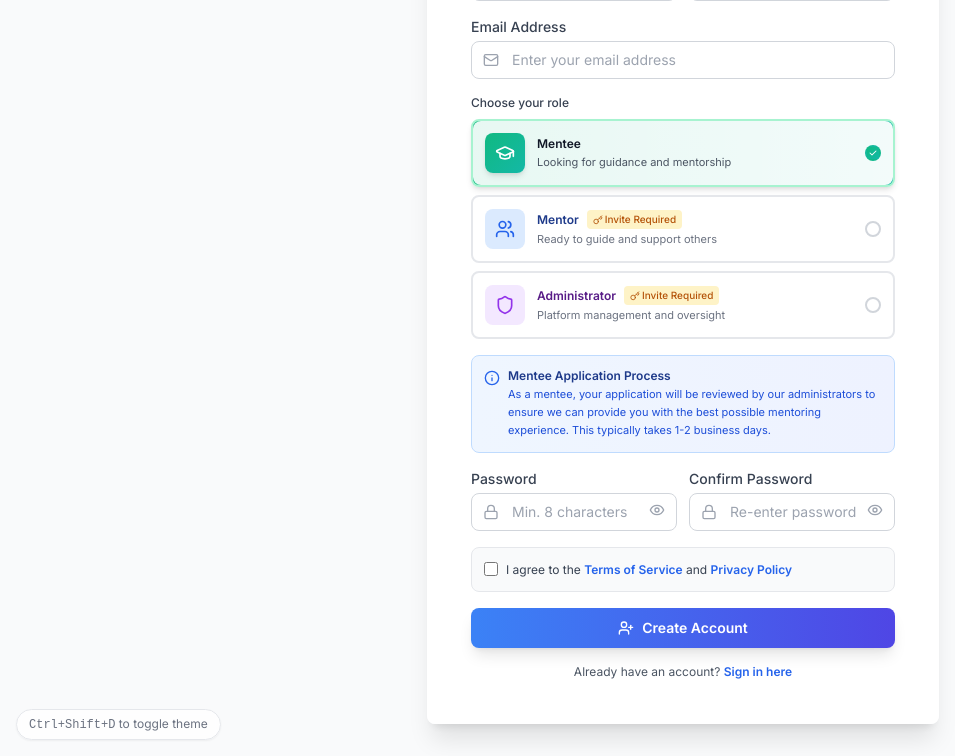
Test: Authentication Flow › SignupForm Component › validates password minimum length
(page scrolled)
Type "123" into the password field with test id "signup-password-input". click: (574, 512)
box: [471, 493, 677, 531]
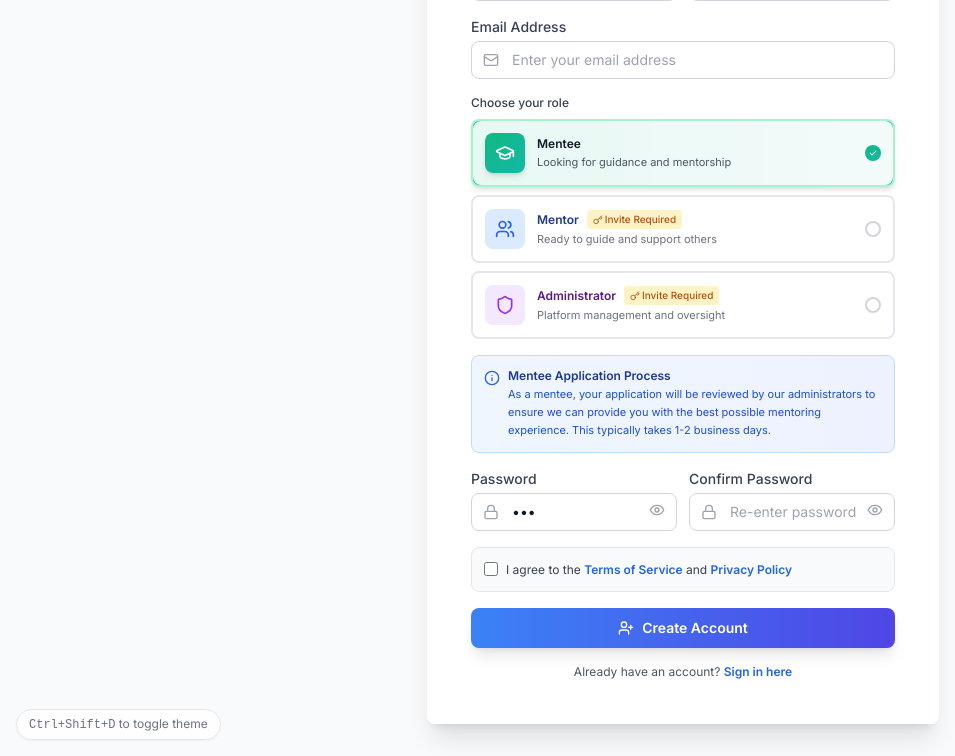
Click the button "Create Account". click: (683, 628)
box: [471, 608, 895, 648]
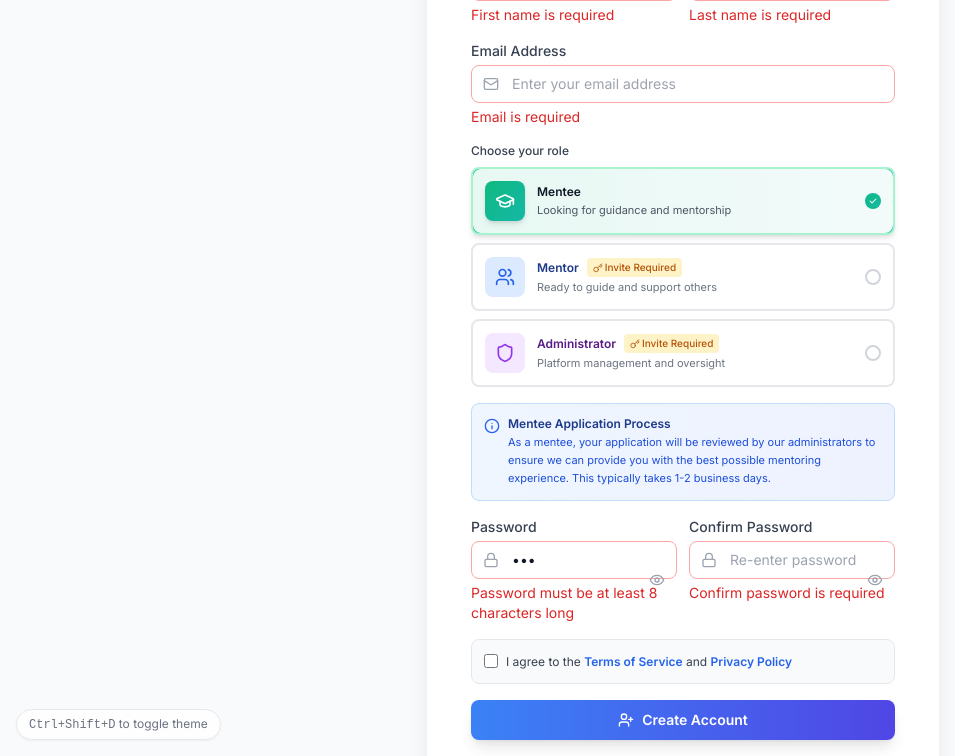
expect the text "Password must be at least 8 characters long" is shown: met, box [471, 583, 677, 623]
